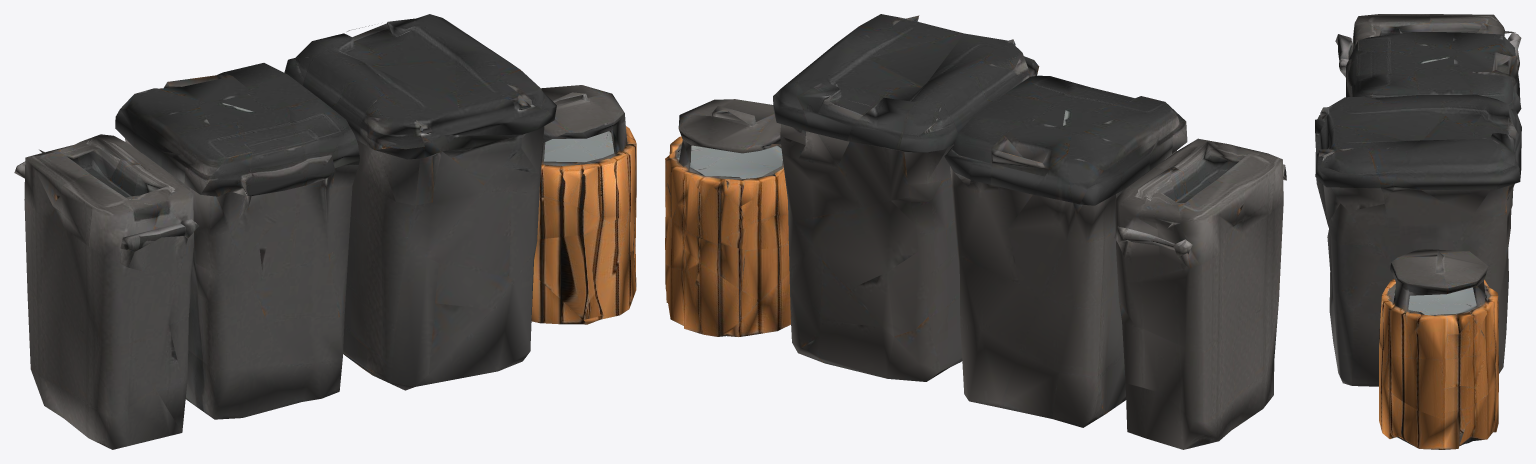
Rendered from bins_lod1.glb.
3 views of the same model, side by side, from view 1: azimuth 30°, elevation 25°; view 2: azimuth 150°, elevation 25°; view 3: azimuth 270°, elevation 25° (orthographic). The views are drawn at different scales.
Parts seen in each view (by area): view 1: mesh_node; view 2: mesh_node; view 3: mesh_node.
Part boxes in pixels (box(x1,y1,x2,y2)): mesh_node: box(14, 14, 636, 449); mesh_node: box(665, 14, 1286, 449); mesh_node: box(1315, 14, 1521, 449).
Bounding box in the file's own units: 1.9 × 0.8992 × 0.7069.
1 material, 1 textured.
